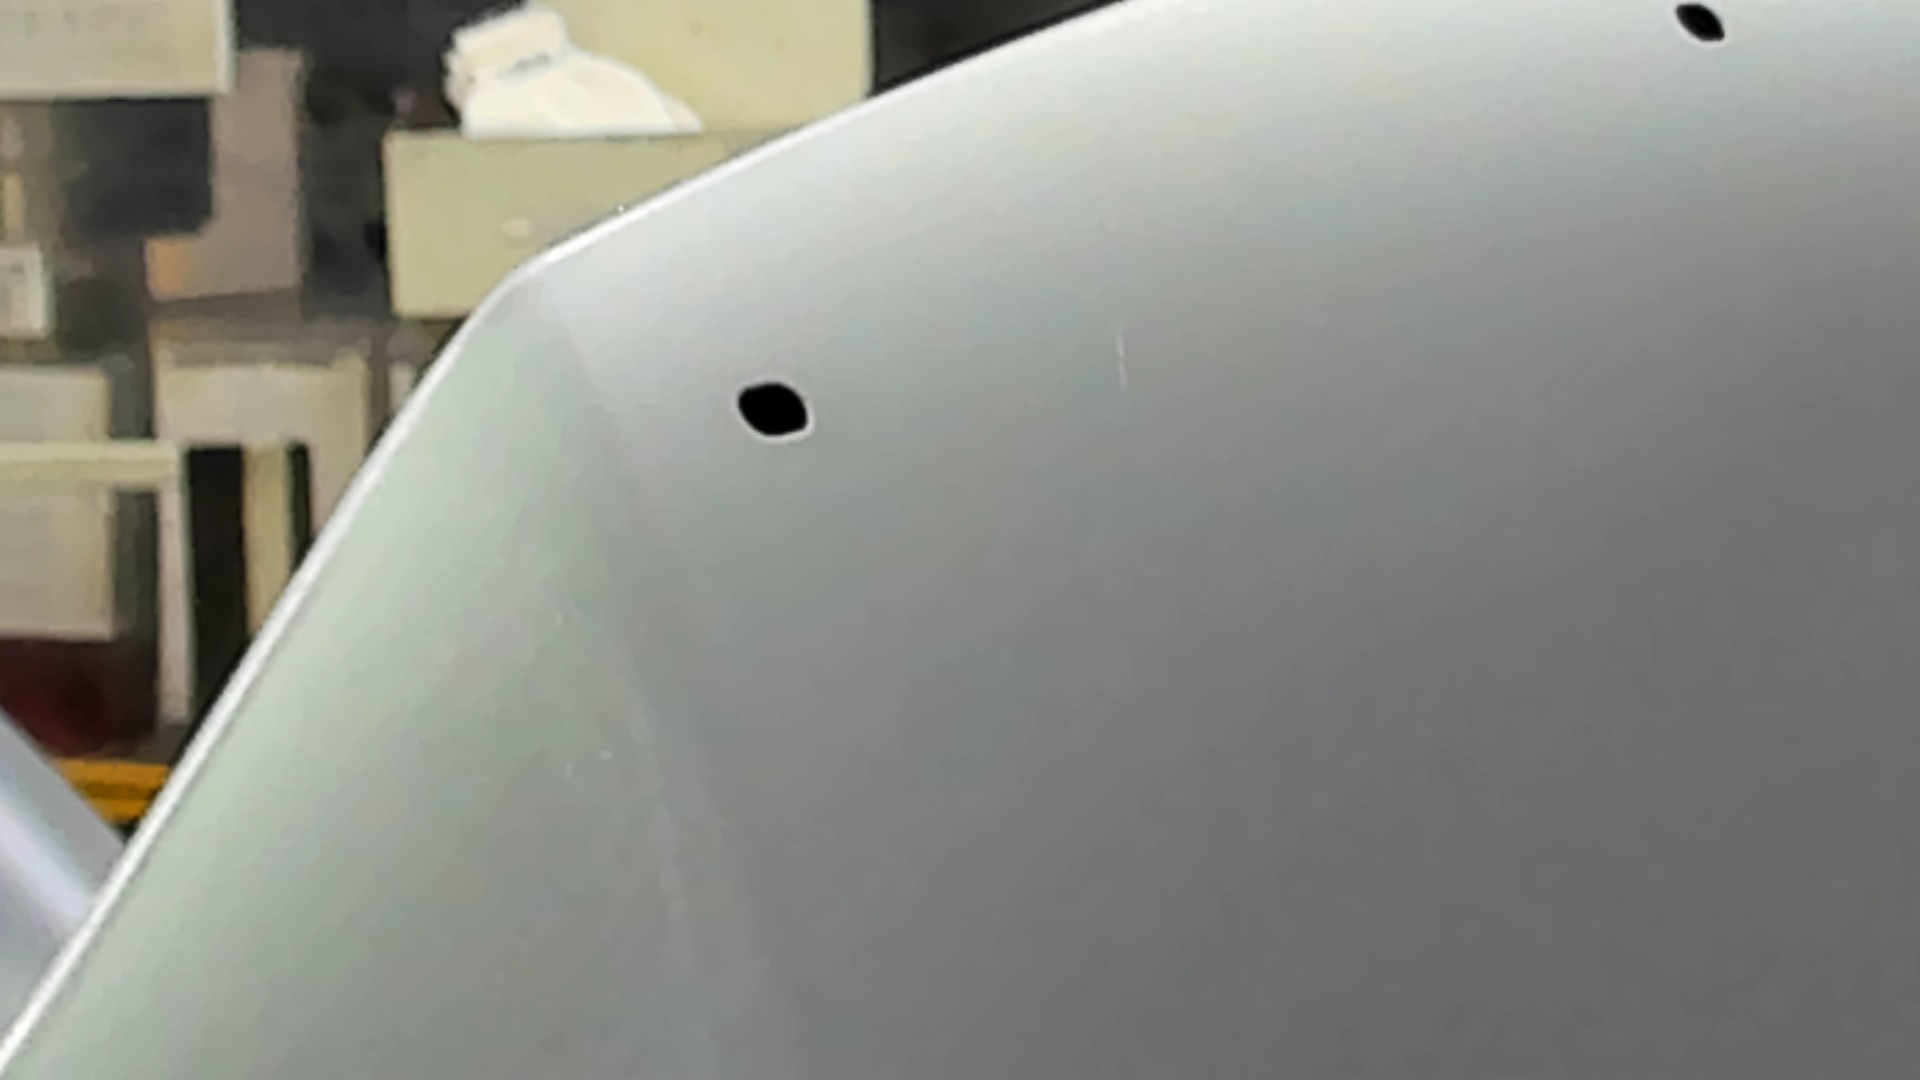amorfo: (733, 376, 819, 442), (1671, 1, 1730, 47)
